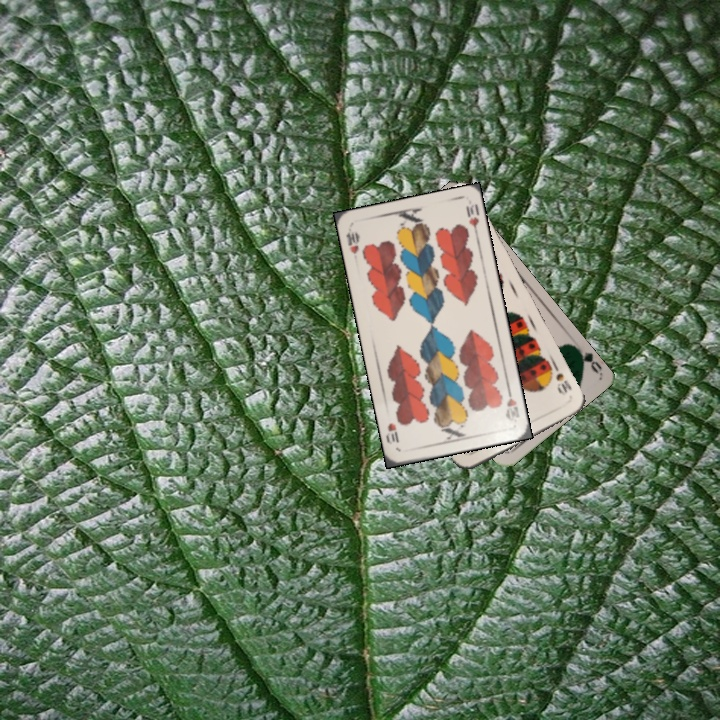GO: (571, 342, 603, 376)
H10: (502, 384, 522, 425), (342, 228, 362, 256)
S10: (550, 361, 575, 398)
